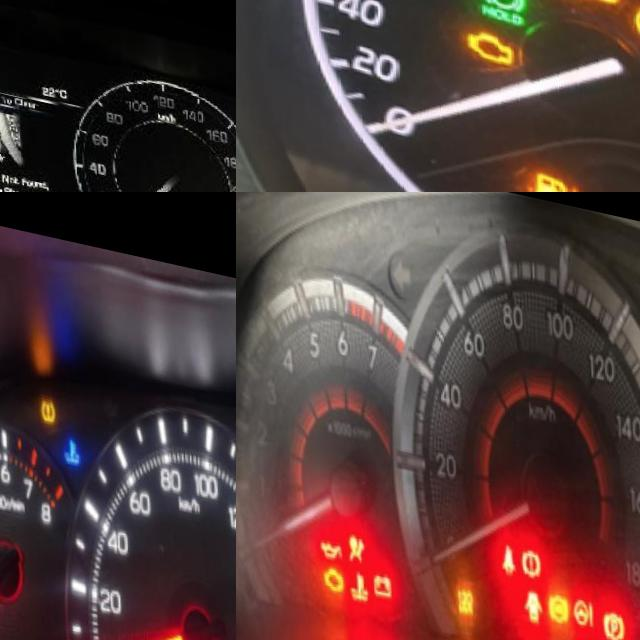High Engine Coolant Temperature: (58, 422, 82, 463), (347, 562, 367, 601)
